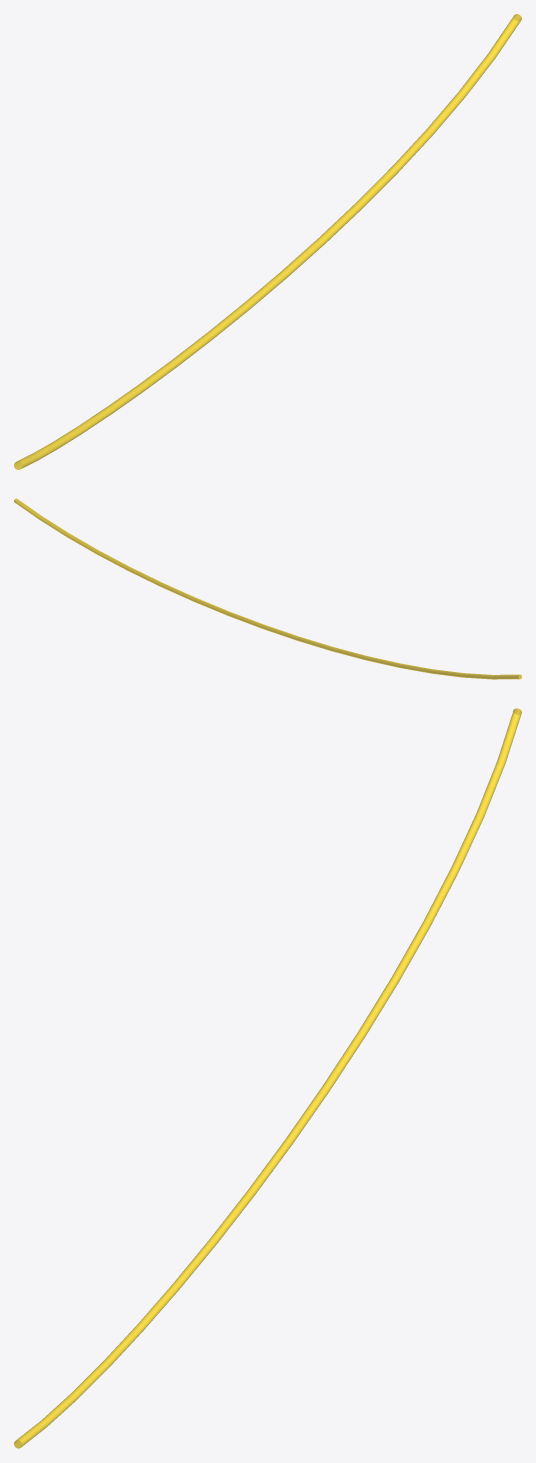
File: Event_17758602_track_17.fbx
3 renders of one model, top to bottom at view 1: azimuth 90°, elevation 25°; view 2: azimuth 150°, elevation 25°; view 3: azimuth 270°, elevation 25°, orthographic. The views are drawn at different scales.
Visible parts, largest first — view 1: Model; view 2: Model; view 3: Model.
Boxes of the visible parts, x1,y1,x2,y2 form: Model: [14, 14, 521, 469]; Model: [14, 498, 521, 679]; Model: [14, 708, 521, 1448].
Size of the model in its own units: 6.36 by 0.8402 by 2.31.
